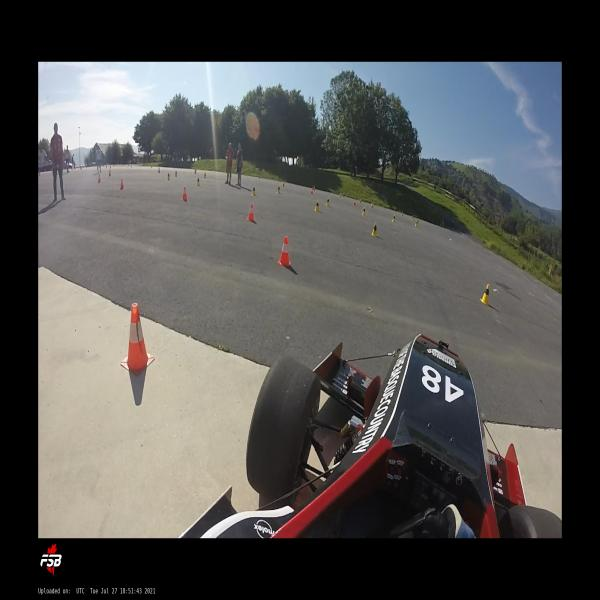orange_cone: (120, 303, 155, 376), (277, 236, 291, 266), (247, 203, 255, 222), (182, 186, 188, 201), (97, 174, 101, 184), (120, 179, 124, 189), (108, 170, 112, 177), (353, 199, 356, 205), (313, 186, 315, 192), (158, 167, 160, 173), (310, 188, 312, 194), (370, 203, 372, 208), (283, 182, 284, 187), (340, 193, 341, 198)
yellow_cone: (480, 284, 490, 306), (371, 222, 378, 237), (314, 200, 320, 212), (325, 197, 330, 207), (196, 177, 200, 187), (362, 207, 366, 216), (252, 187, 256, 196), (276, 186, 280, 194), (392, 214, 395, 222), (167, 173, 170, 180), (415, 220, 418, 226), (175, 170, 177, 177), (411, 215, 413, 220)
